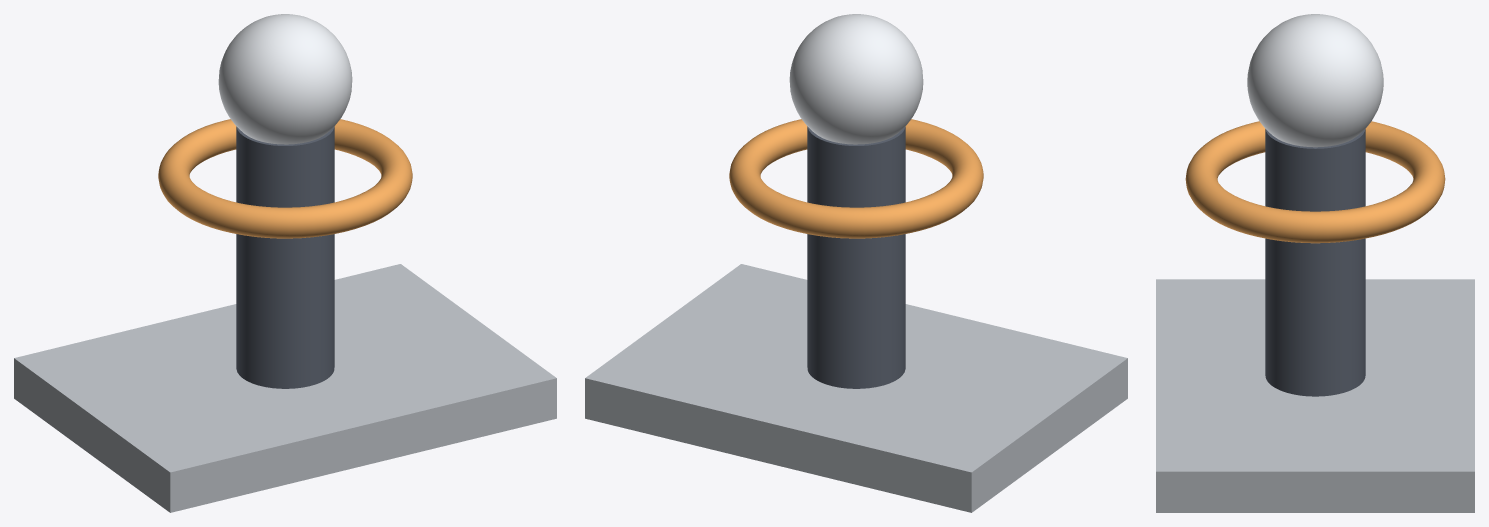
3 renders of one model, left to right at view 1: azimuth 30°, elevation 25°; view 2: azimuth 150°, elevation 25°; view 3: azimuth 270°, elevation 25°, orthographic. The views are drawn at different scales.
Parts seen in each view (by area): view 1: Base, Column, Cap, Ring; view 2: Base, Column, Cap, Ring; view 3: Base, Column, Cap, Ring.
Part boxes in pixels (left/top/right/bottom): Base: left=14, top=264, right=556, bottom=512; Column: left=236, top=126, right=334, bottom=388; Cap: left=218, top=14, right=352, bottom=144; Ring: left=158, top=119, right=412, bottom=238; Base: left=585, top=264, right=1127, bottom=512; Column: left=807, top=126, right=905, bottom=388; Cap: left=789, top=14, right=923, bottom=144; Ring: left=729, top=119, right=983, bottom=238; Base: left=1156, top=279, right=1474, bottom=512; Column: left=1265, top=129, right=1365, bottom=396; Cap: left=1247, top=14, right=1383, bottom=147; Ring: left=1185, top=121, right=1445, bottom=243.
Size of the model in its own units: 2 by 1.92 by 1.4.
